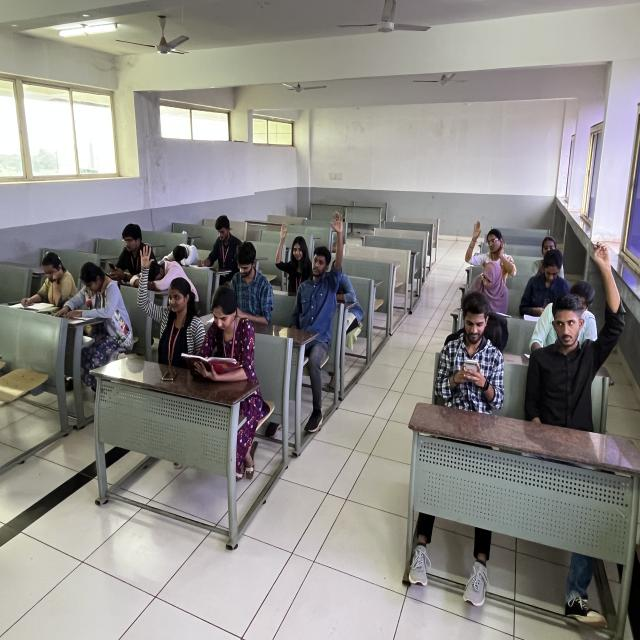Hand Rising: (532, 242, 622, 391), (294, 207, 344, 340), (136, 248, 201, 342), (458, 215, 516, 278), (268, 218, 312, 284)
Reading: (188, 289, 250, 375), (66, 260, 126, 329), (14, 252, 76, 316)
Sleeping: (165, 213, 207, 273), (146, 237, 186, 294)
Using Phone: (434, 293, 509, 408), (105, 180, 151, 280)
